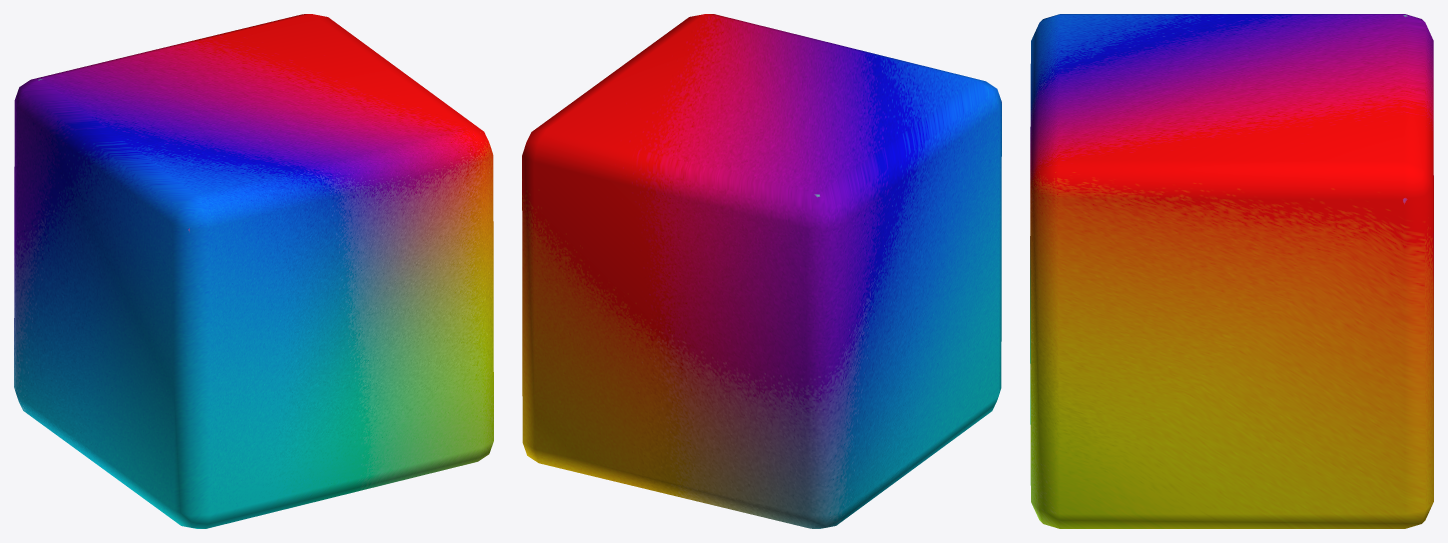
Rendered from rainbow.glb.
The picture shows the model from 3 angles, left to right: view 1: azimuth 30°, elevation 25°; view 2: azimuth 150°, elevation 25°; view 3: azimuth 270°, elevation 25°; orthographic projection. The views are drawn at different scales.
Parts seen in each view (by area): view 1: rainbow_cube; view 2: rainbow_cube; view 3: rainbow_cube.
Part boxes in pixels (bbox=[...]): rainbow_cube: bbox=[14, 14, 493, 528]; rainbow_cube: bbox=[522, 14, 1001, 528]; rainbow_cube: bbox=[1030, 14, 1433, 528].
Size of the model in its own units: 0.8141 by 0.8175 by 0.8137.
Materials: 1 (1 with a texture image).
